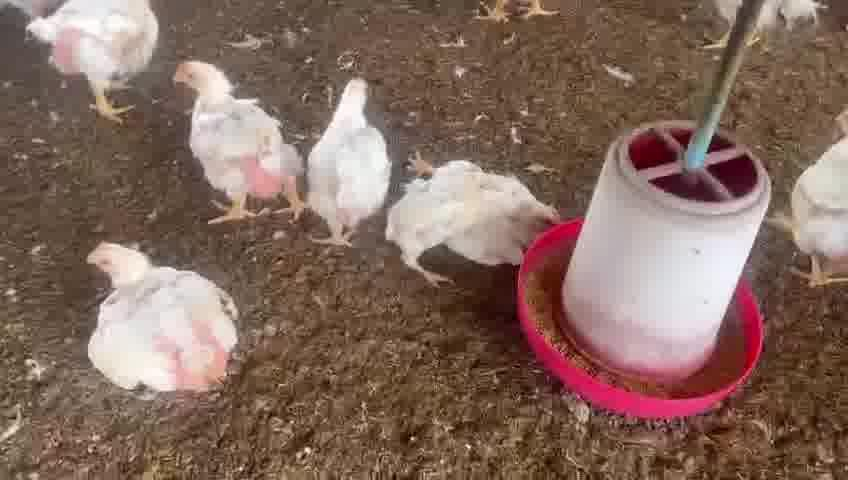AbNormal: (400, 151, 552, 266)
Normal: (62, 220, 242, 404), (182, 44, 310, 220), (294, 65, 400, 256), (30, 0, 190, 104)
